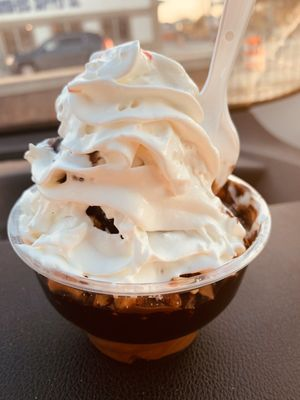curry: (0, 191, 300, 400)
sushi: (9, 39, 260, 290)
